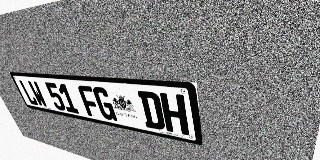1: (55, 83, 79, 114)
5: (44, 82, 67, 111)
D: (137, 91, 166, 131)
F: (77, 85, 102, 118)
G: (91, 86, 118, 121)
H: (159, 93, 189, 135)
L: (18, 80, 39, 106)
W: (27, 80, 49, 108)
